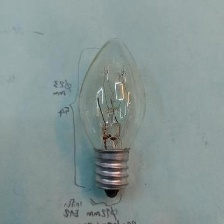light_bulb: (72, 34, 150, 202)
